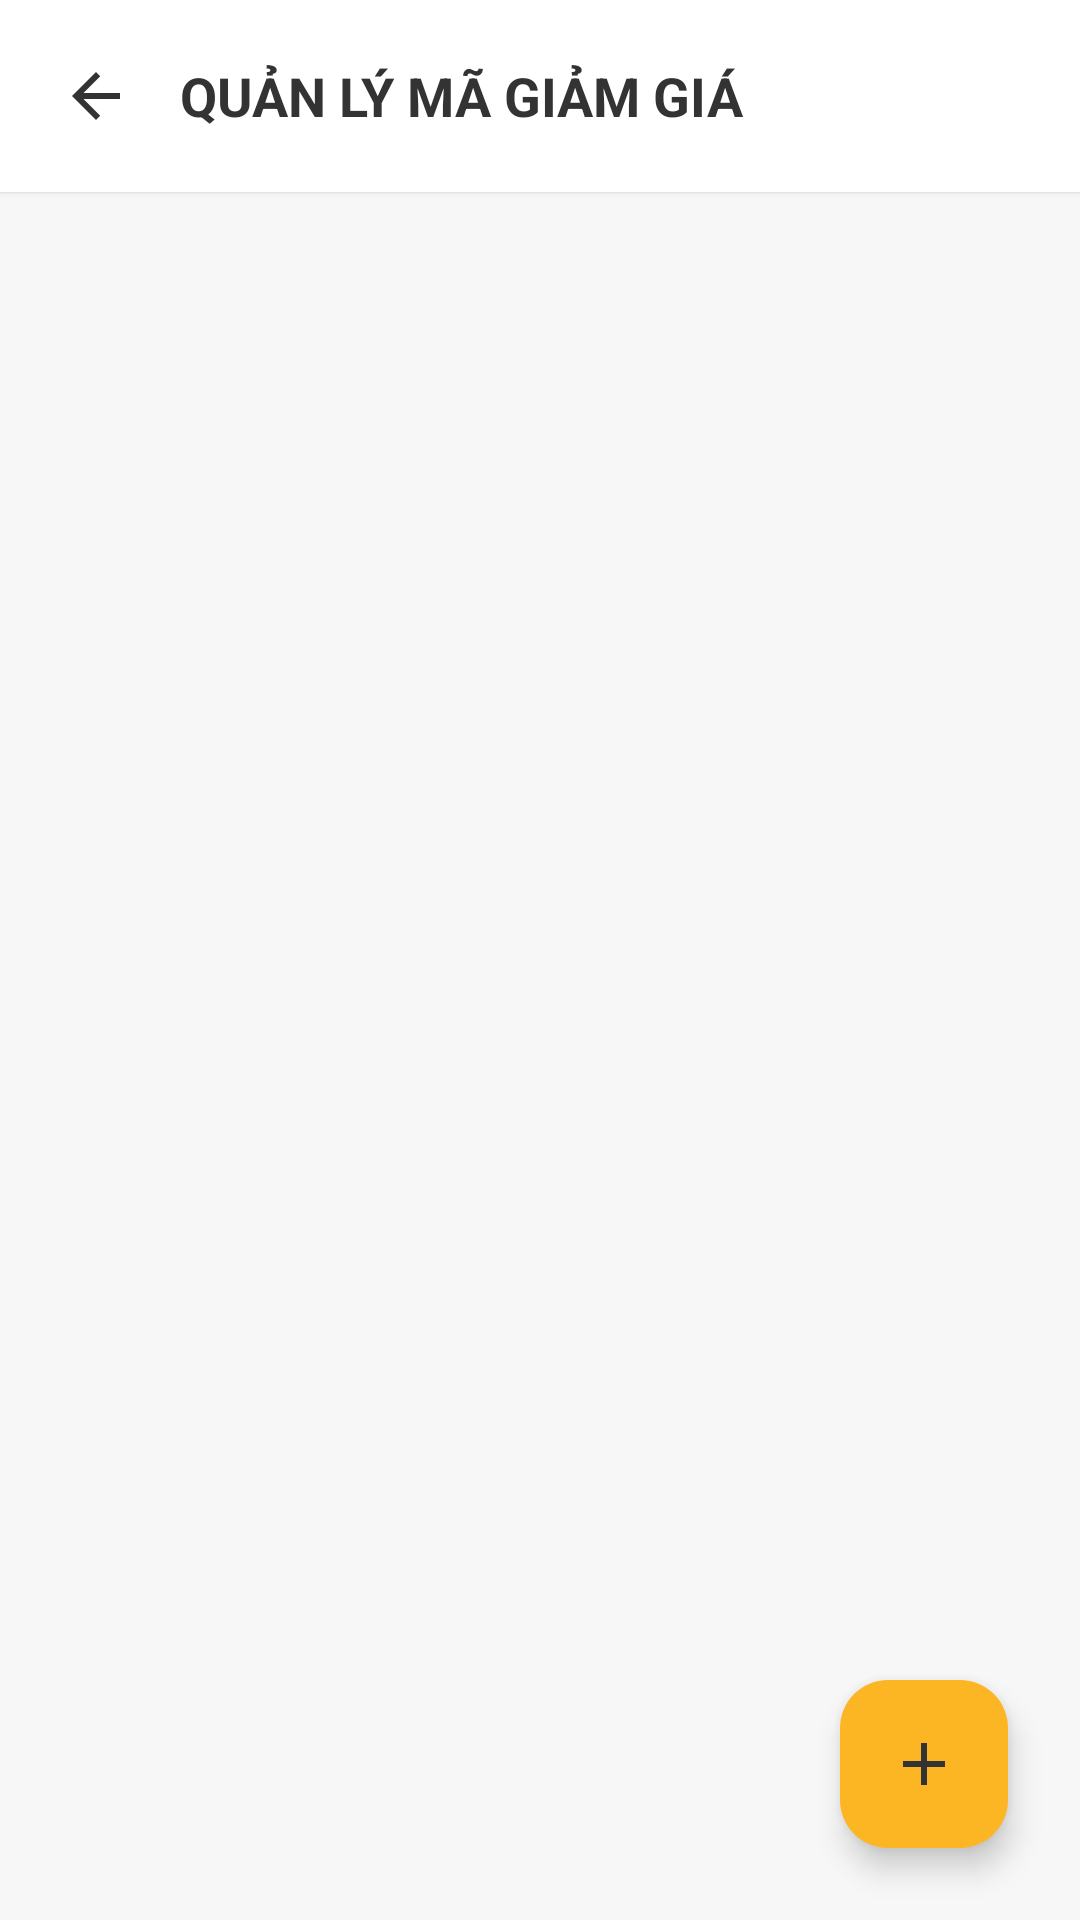

Locate icon controls on the screen. Image size 1080px×1920px, boxes as (left=x1, top=y1, right=x2, bottom=y2).
Quay lại: (left=72, top=72, right=120, bottom=120)
Thêm mã giảm giá: (left=840, top=1680, right=1008, bottom=1848)
